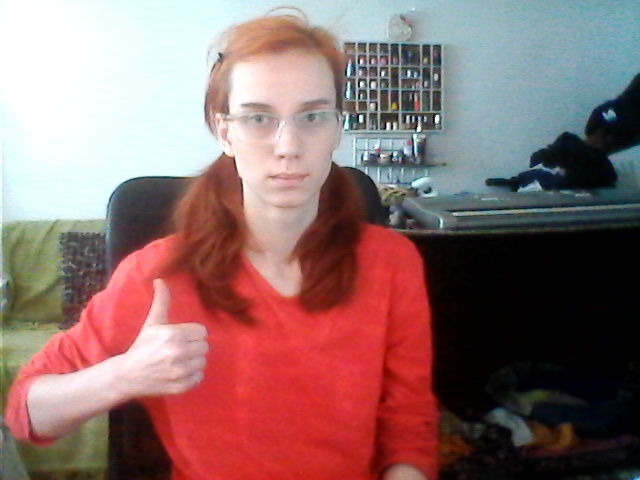jeden: (130, 276, 213, 403)
